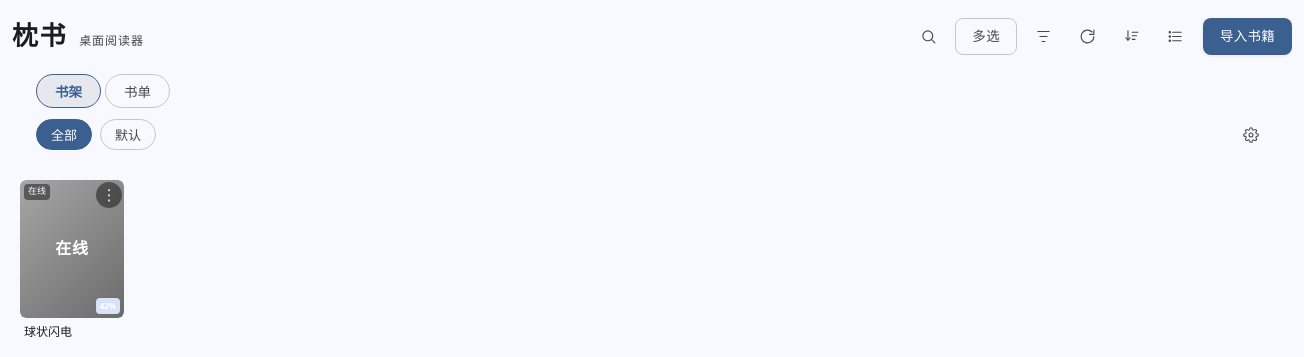
Scenario: LibraryPage › shows current and latest chapter for source books in list mode
Expected: the text "球状闪电" is shown, [24,323,72,340]
What coordinates should you click on to do the following:
click the button named "切换为列表"
I would click on:
 (1176, 37)
Its box is [1159,20,1193,54].
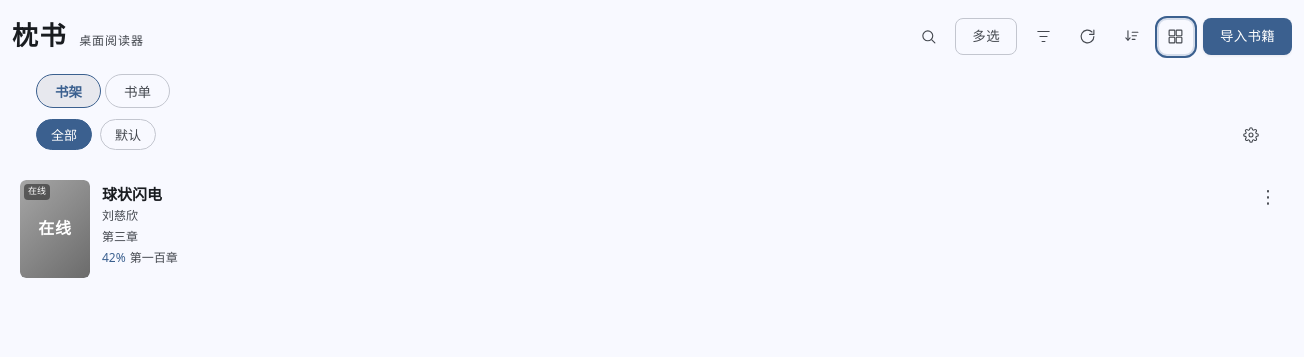
Result: the text "第三章" is shown at [102,228,138,245]
Result: the text "第一百章" is shown at [130,248,178,267]
